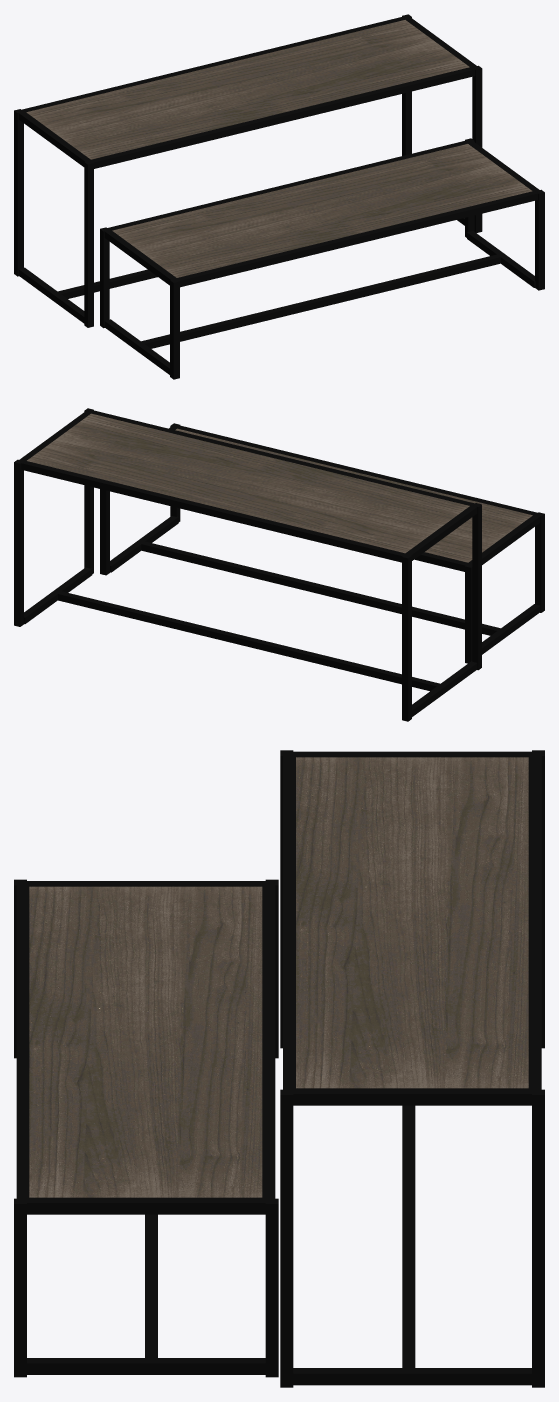
Rendered from Clothes table.fbx.
3 views of the same model, one above another, from view 1: azimuth 30°, elevation 25°; view 2: azimuth 150°, elevation 25°; view 3: azimuth 270°, elevation 25° (orthographic). The views are drawn at different scales.
Parts seen in each view (by area): view 1: Clothes table; view 2: Clothes table; view 3: Clothes table.
Boxes of the visible parts, x1,y1,x2,y2 form: Clothes table: (14,14,544,379); Clothes table: (14,408,544,721); Clothes table: (14,750,544,1387).
Size of the model in its own units: 163 by 64.66 by 106.
Materials: 2 (1 with a texture image).
